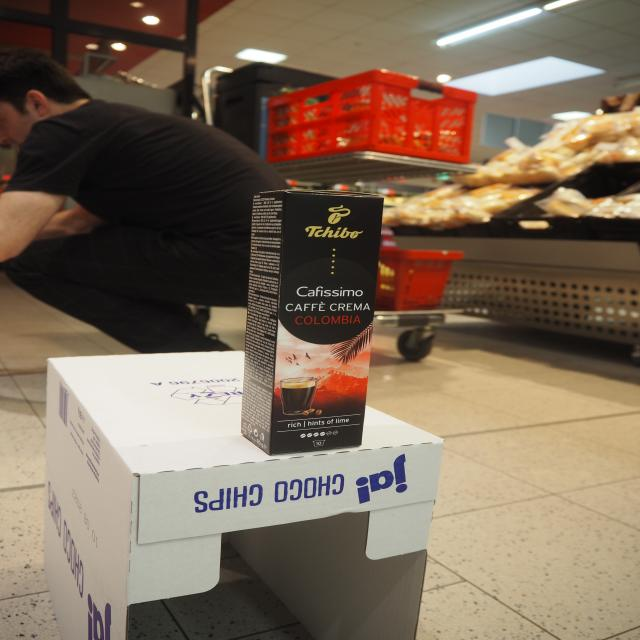Simo CC Colombia: (230, 187, 386, 461)
